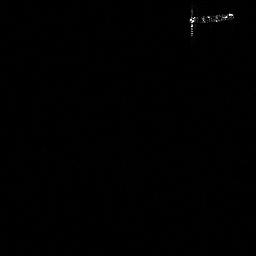ship: (186, 11, 235, 37)
